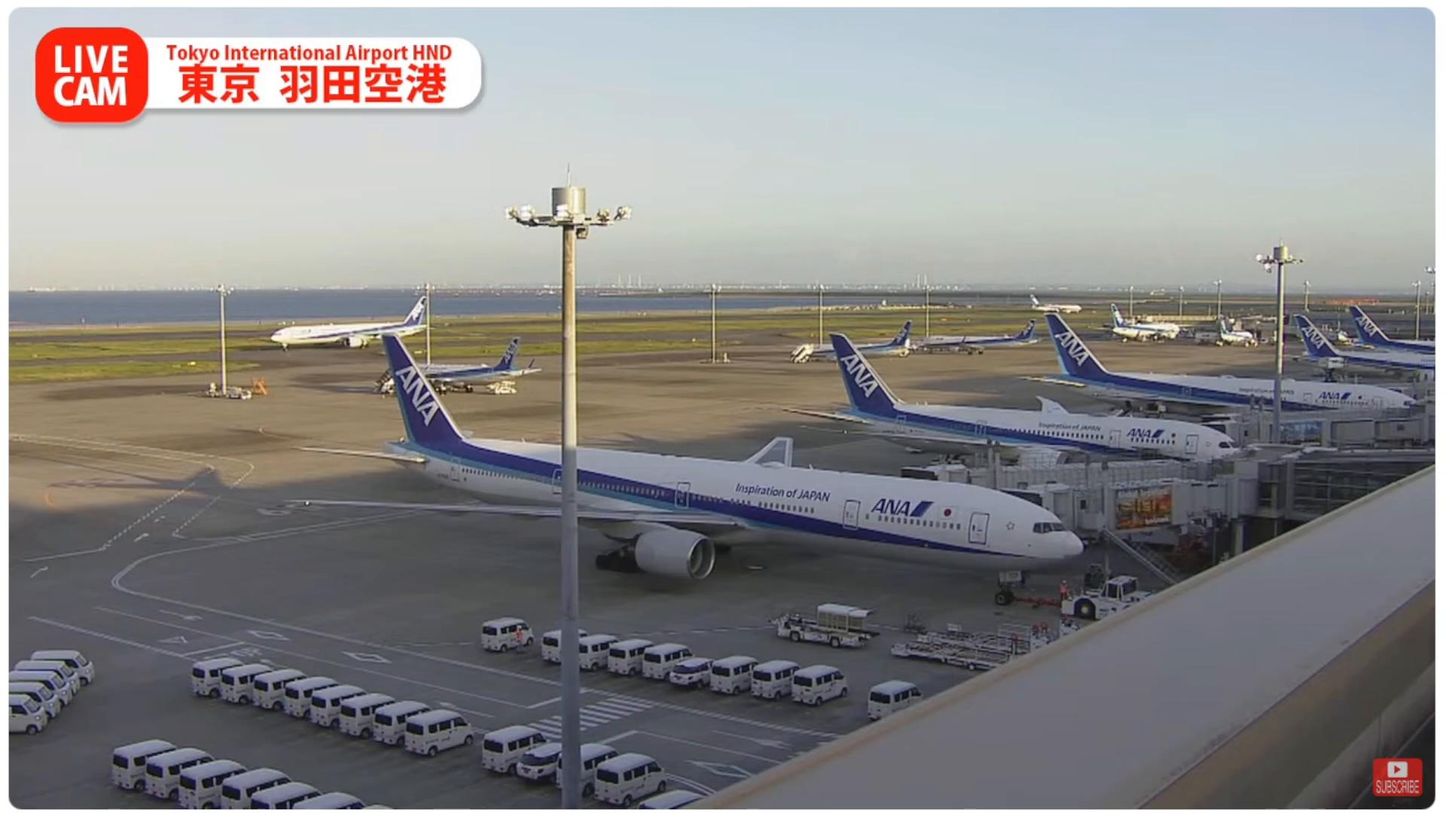APS: (1061, 576, 1155, 621)
Aerobridge: (990, 474, 1217, 523), (903, 458, 1204, 486)
Airplane: (290, 334, 1085, 584)
JCPL: (923, 620, 1080, 653), (886, 638, 1018, 670)
Skyloader: (770, 601, 883, 645)
Window: (1253, 443, 1435, 520)
